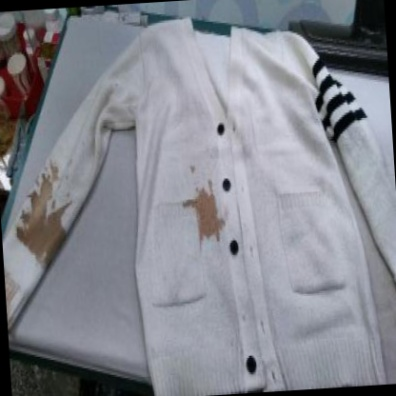coffee: (20, 208, 67, 258), (196, 192, 220, 240)
